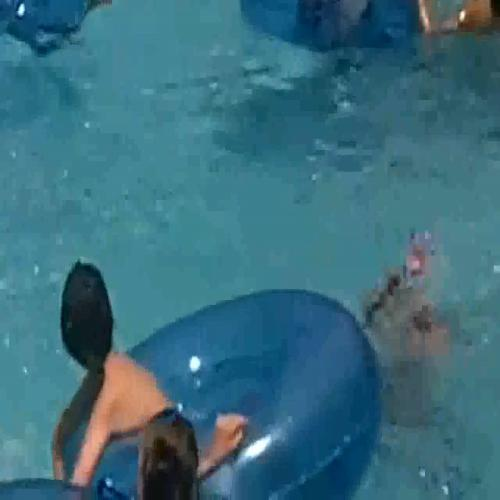drowning: (352, 196, 459, 386)
swimming: (39, 245, 138, 445), (145, 405, 252, 499)
